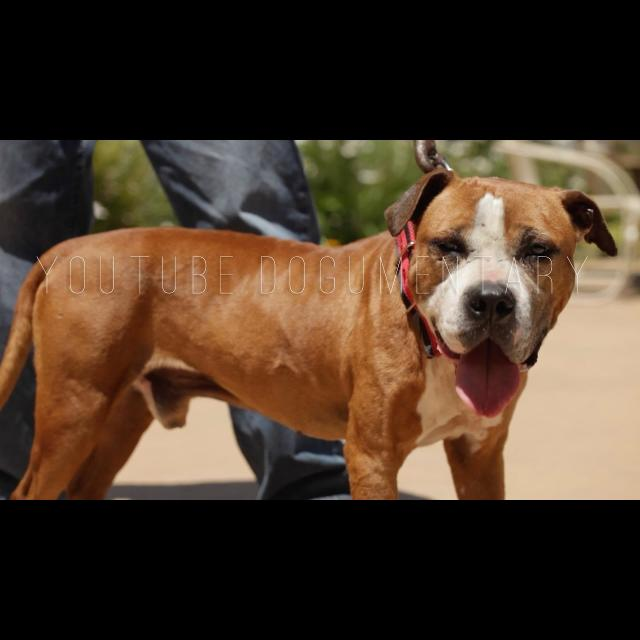am_pit_bull_terrier: (2, 142, 619, 500)
